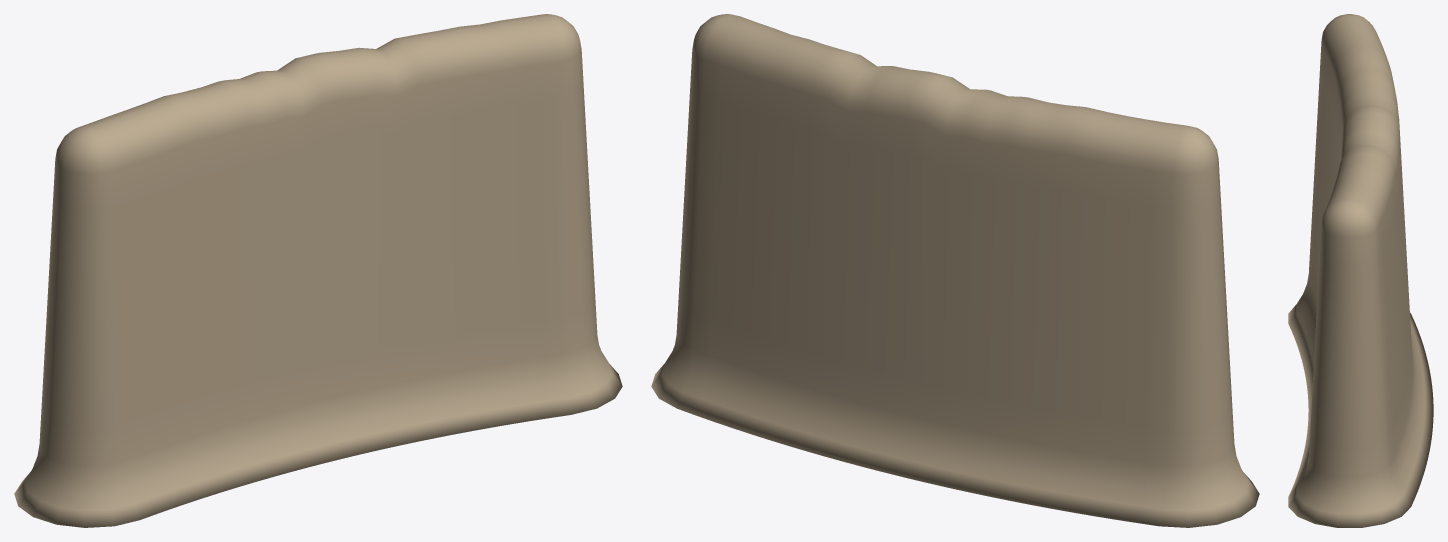
File: KFB_Wall_curved_ring_r3_capAB.r1.glb
3 renders of one model, left to right at view 1: azimuth 30°, elevation 25°; view 2: azimuth 150°, elevation 25°; view 3: azimuth 270°, elevation 25°, orthographic. The views are drawn at different scales.
Parts seen in each view (by area): view 1: KFB_Wall_curved_ring_r3_capAB; view 2: KFB_Wall_curved_ring_r3_capAB; view 3: KFB_Wall_curved_ring_r3_capAB.
Part boxes in pixels (<box>): KFB_Wall_curved_ring_r3_capAB: <box>14,14,622,527</box>; KFB_Wall_curved_ring_r3_capAB: <box>651,14,1259,527</box>; KFB_Wall_curved_ring_r3_capAB: <box>1288,14,1433,527</box>.
Bounding box in the file's own units: 6.01 × 3.63 × 1.57.
